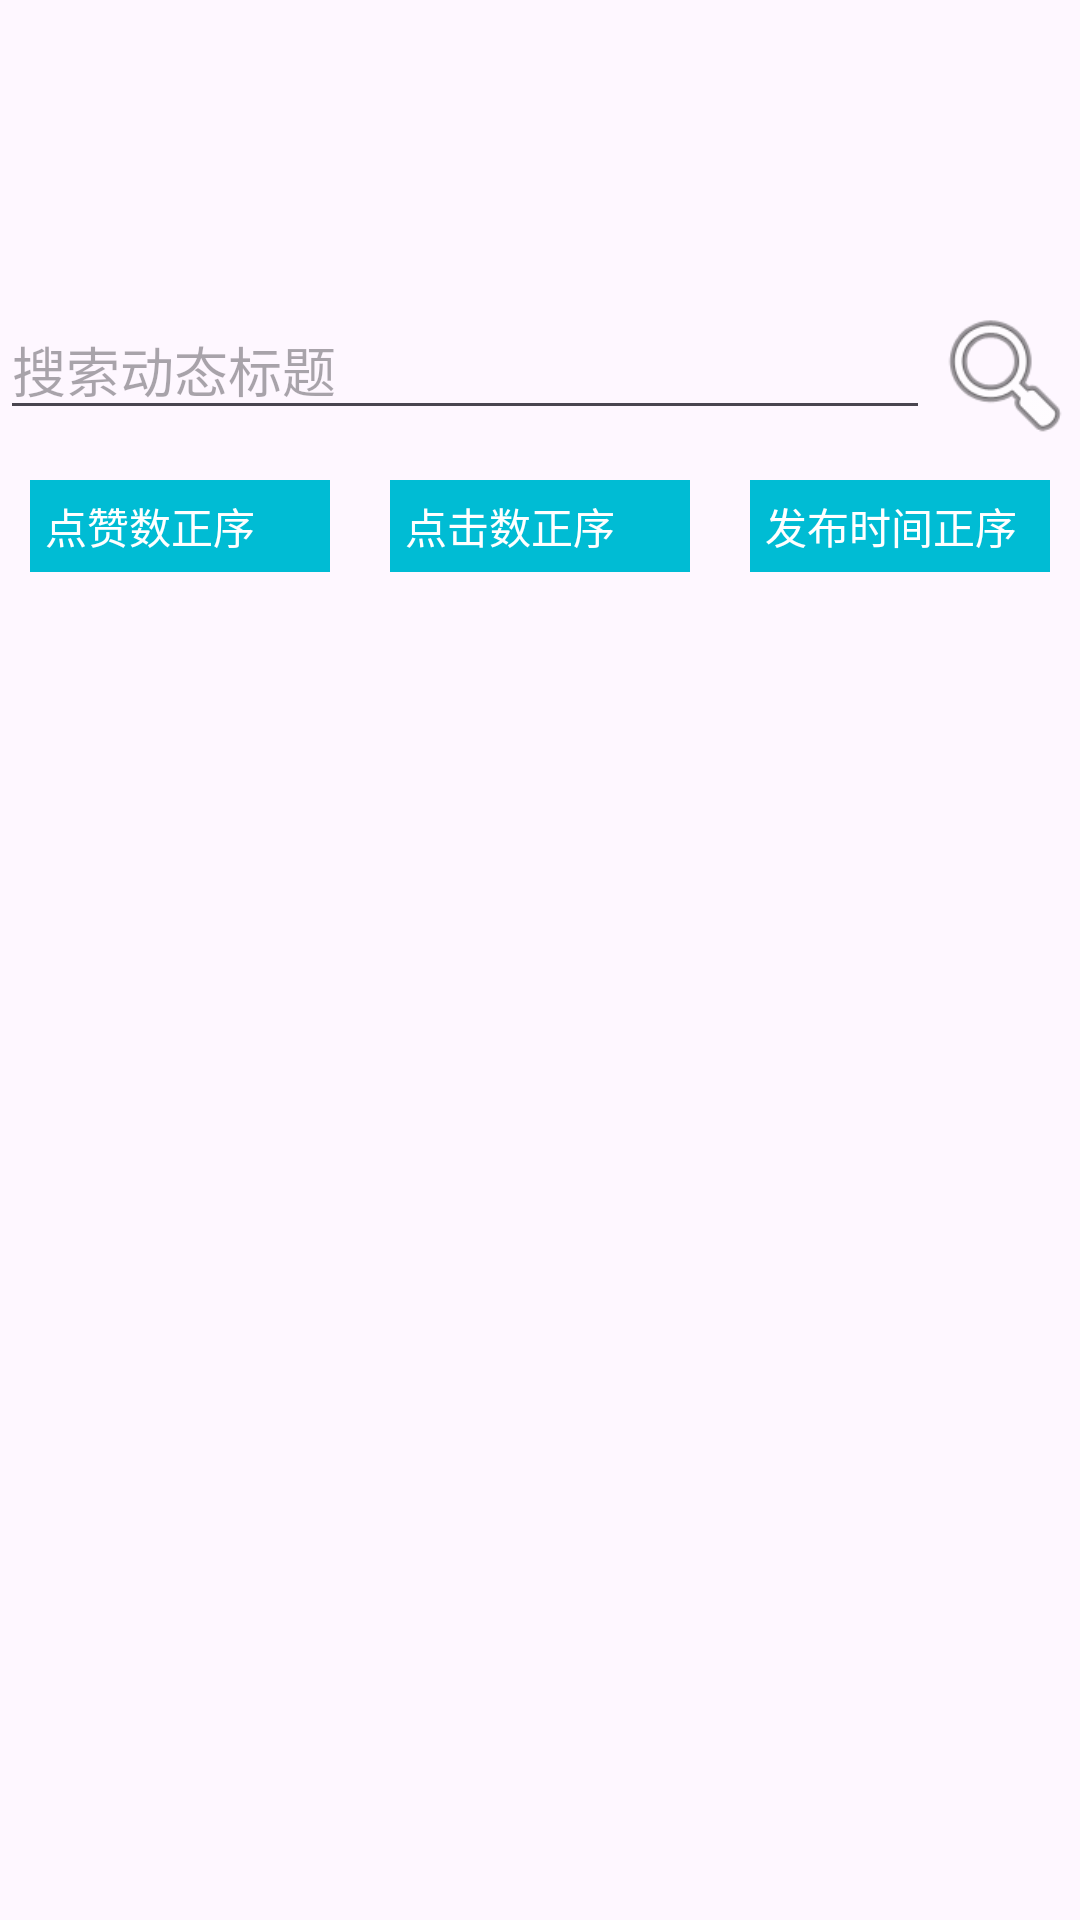

Screen size 1080px×1920px. Icon name, then its center in pixels as [x,y]:
search: [1005,376]
